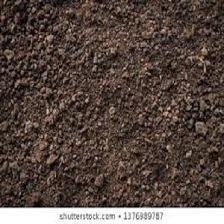loamy_soil: (14, 23, 210, 186)
